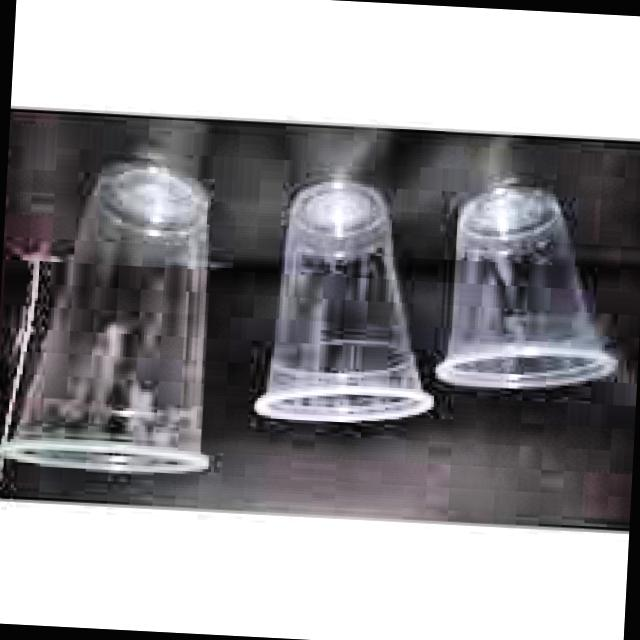plastic cup: (1, 162, 209, 469), (256, 181, 432, 423), (437, 187, 617, 389)
